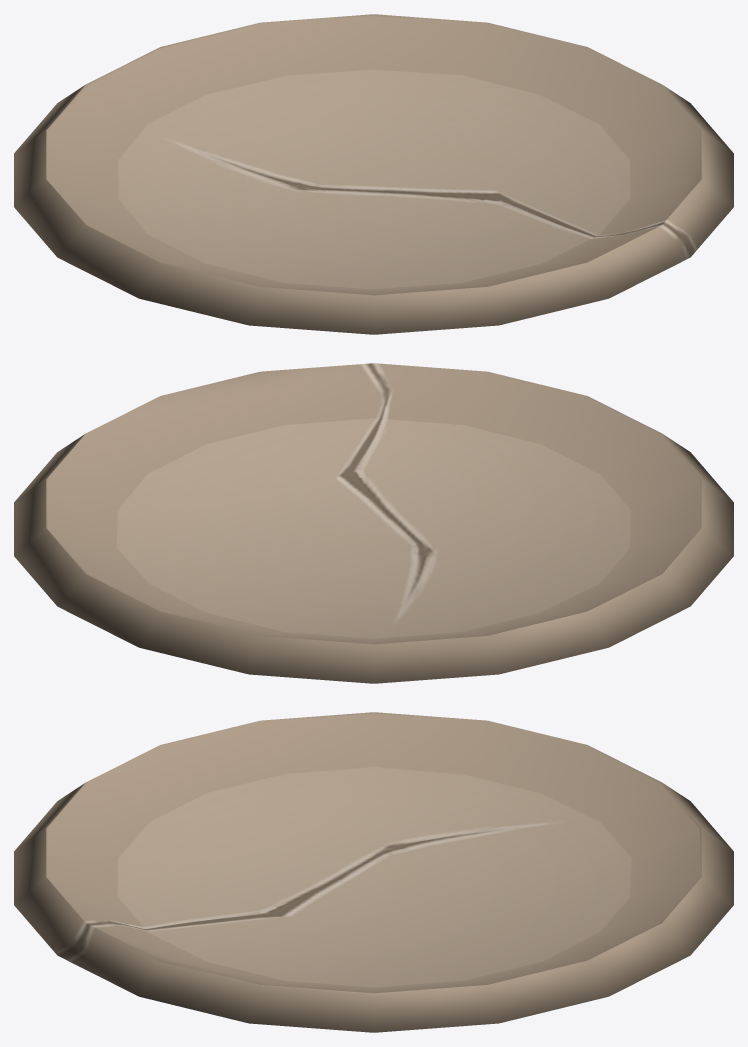
File: MimicMayhem_Plate.FBX
3 views of the same model, one above another, from view 1: azimuth 30°, elevation 25°; view 2: azimuth 150°, elevation 25°; view 3: azimuth 270°, elevation 25° (orthographic).
Parts seen in each view (by area): view 1: Cylinder001; view 2: Cylinder001; view 3: Cylinder001.
Boxes of the visible parts, box(x1,y1,x2,y2) form: Cylinder001: box(14, 14, 733, 334); Cylinder001: box(14, 363, 733, 683); Cylinder001: box(14, 712, 733, 1032).
Size of the model in its own units: 13.52 by 1.36 by 13.31.
